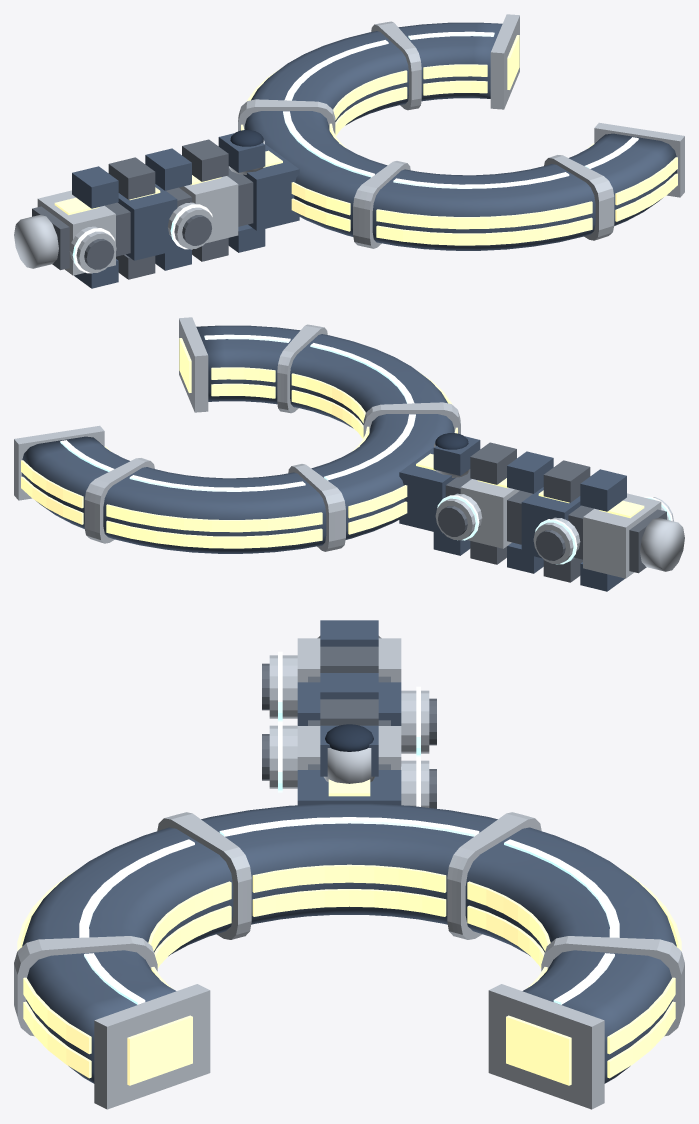
Rendered from station-ceres-port.glb.
The picture shows the model from 3 angles, top to bottom: view 1: azimuth 30°, elevation 25°; view 2: azimuth 150°, elevation 25°; view 3: azimuth 270°, elevation 25°; orthographic projection. The views are drawn at different scales.
Parts seen in each view (by area): view 1: concourse, spine, berth_2, berth_4; view 2: concourse, spine, berth_3, berth_1; view 3: concourse, spine, berth_4, berth_3, berth_2, berth_1.
Part boxes in pixels (box(x1,y1,x2,y2)): concourse: box(238, 14, 684, 250); spine: box(14, 130, 299, 288); berth_2: box(168, 202, 214, 249); berth_4: box(69, 226, 116, 273); concourse: box(14, 317, 460, 553); spine: box(399, 433, 684, 591); berth_3: box(533, 517, 580, 564); berth_1: box(435, 493, 482, 540); concourse: box(14, 803, 684, 1109); spine: box(297, 620, 401, 805); berth_4: box(262, 651, 297, 721); berth_3: box(401, 686, 436, 756); berth_2: box(262, 722, 297, 792); berth_1: box(401, 757, 436, 808).
Size of the model in its own units: 1 by 0.1803 by 0.6868.
